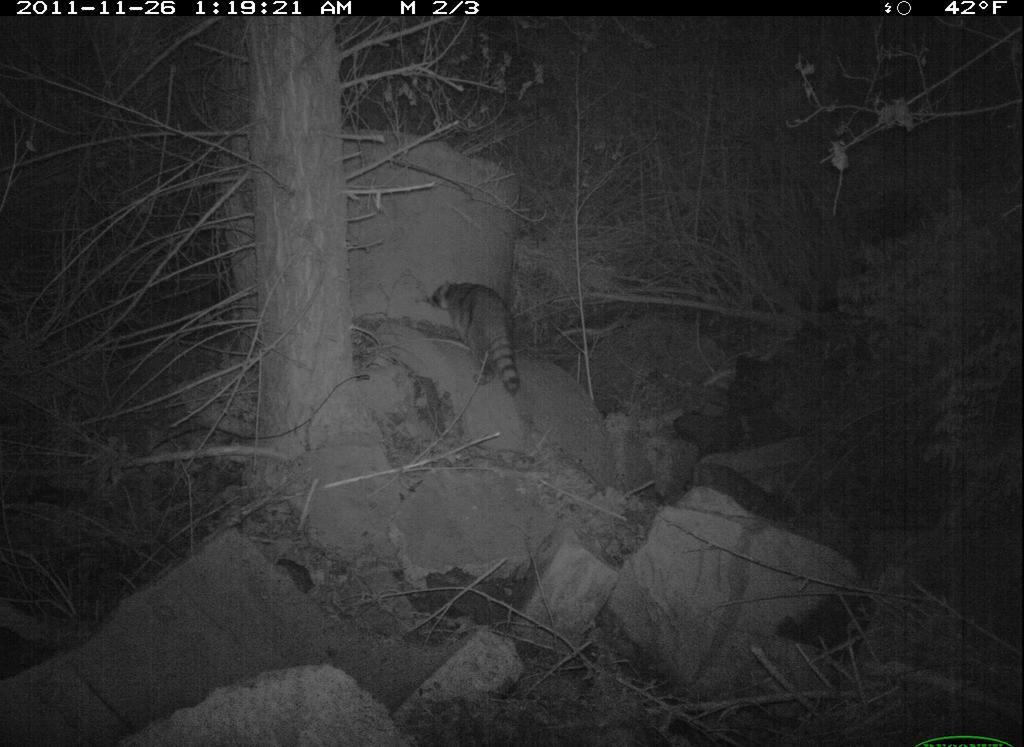raccoon: (429, 278, 548, 408)
